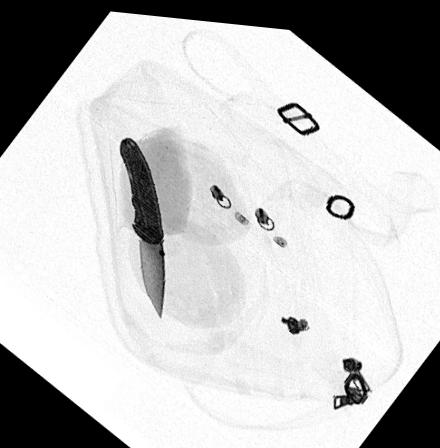Knife: (115, 130, 165, 317)
